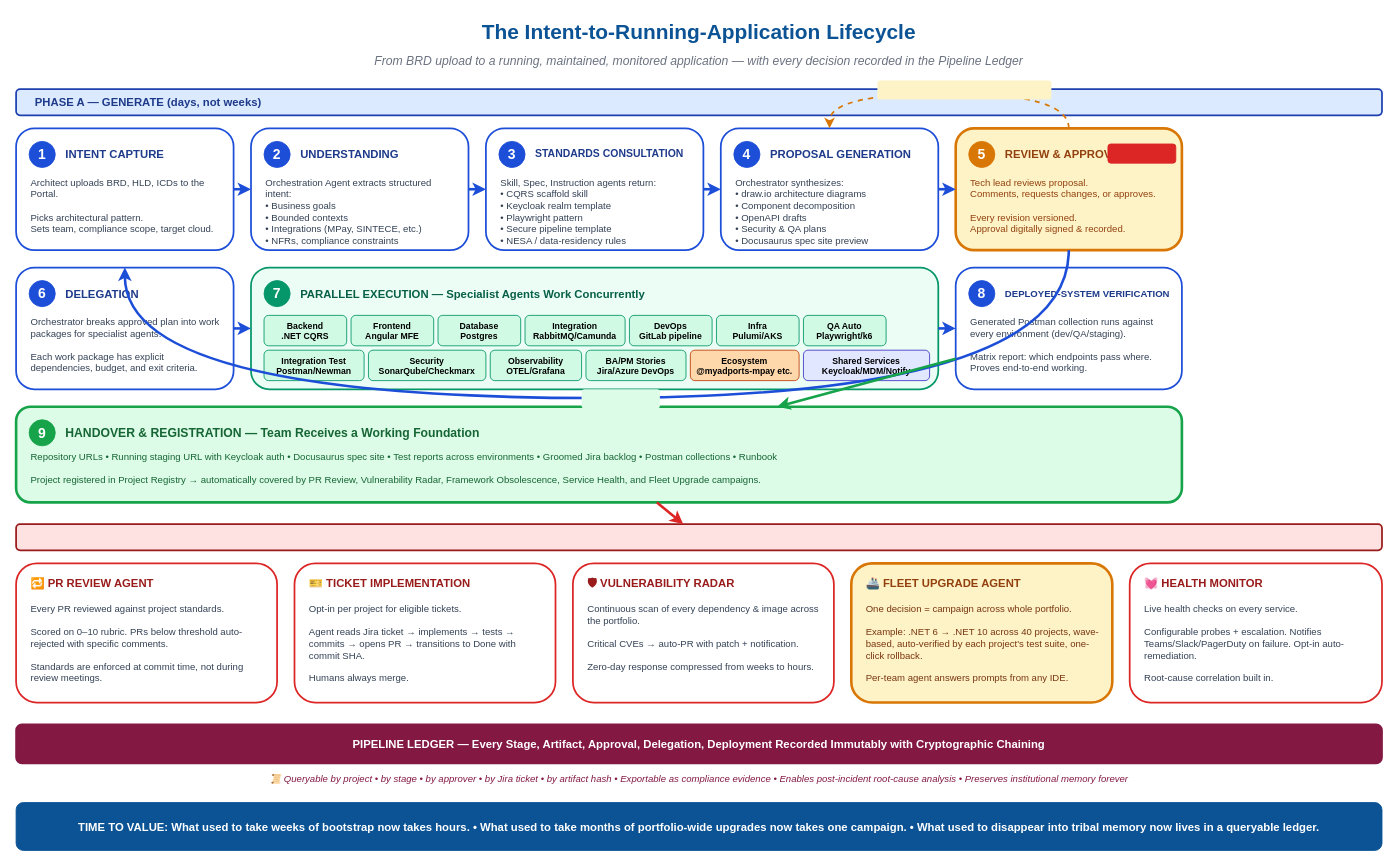
The diagram is 1398 pixels wide and 866 high, and some of its shapes have lost their labels. Here are the shapes that lost their labels. From the top down, the centre of each, then its label:
At point 964,89: "request changes → new version".
At point 1141,153: "HUMAN GATE".
At point 620,398: "APPROVED".
At point 698,537: "PHASE B — MAINTAIN & OPERATE (for the entire lifecycle of the project)".
